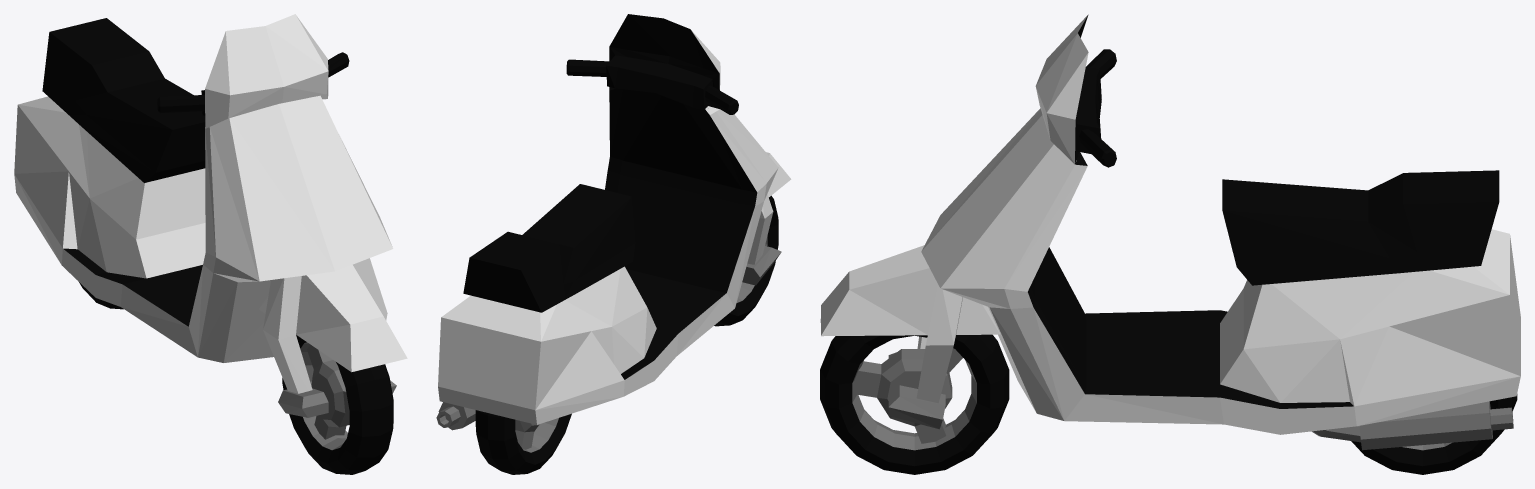
Rendered from 1395 Scooter.obj.
3 views of the same model, side by side, from view 1: azimuth 30°, elevation 25°; view 2: azimuth 150°, elevation 25°; view 3: azimuth 270°, elevation 25° (orthographic). The views are drawn at different scales.
Parts seen in each view (by area): view 1: Scooter; view 2: Scooter; view 3: Scooter.
Boxes of the visible parts, x1,y1,x2,y2 form: Scooter: [14, 14, 407, 474]; Scooter: [436, 14, 791, 474]; Scooter: [820, 14, 1520, 474].
Size of the model in its own units: 42.39 by 82.91 by 120.
Materials: 1 (1 with a texture image).
